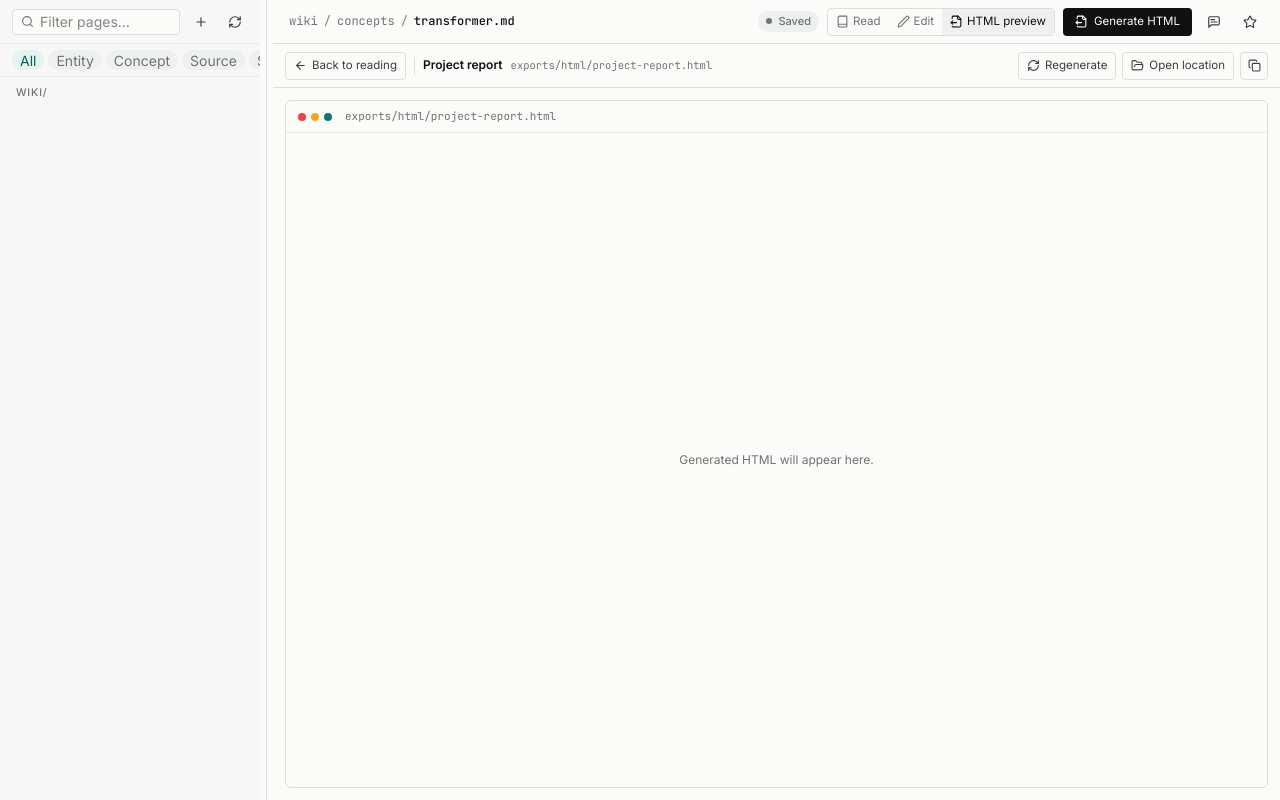
Wiki HTML preview › reopens the single-page dialog when preview regeneration has no valid Wiki record
Click the button "Regenerate".
click(1067, 66)  # box [1018,52,1116,80]
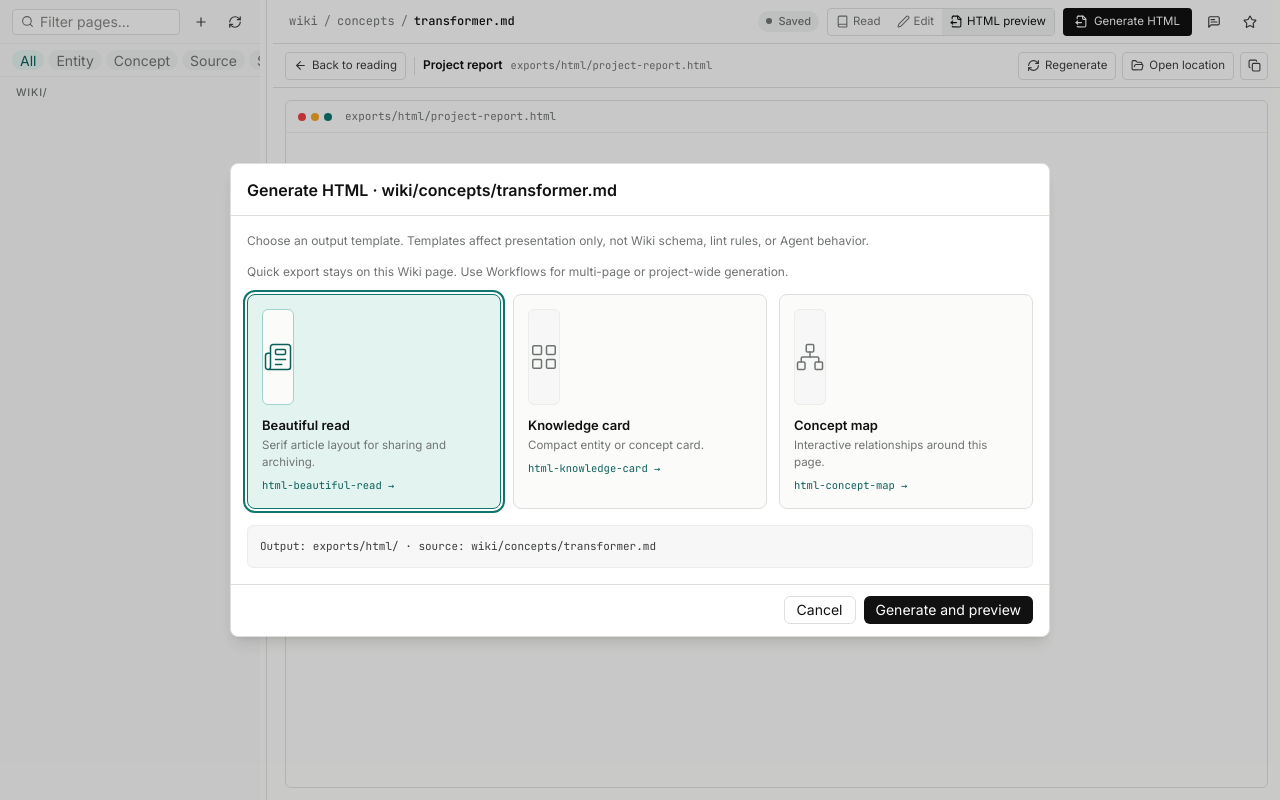
Result: the dialog is shown
